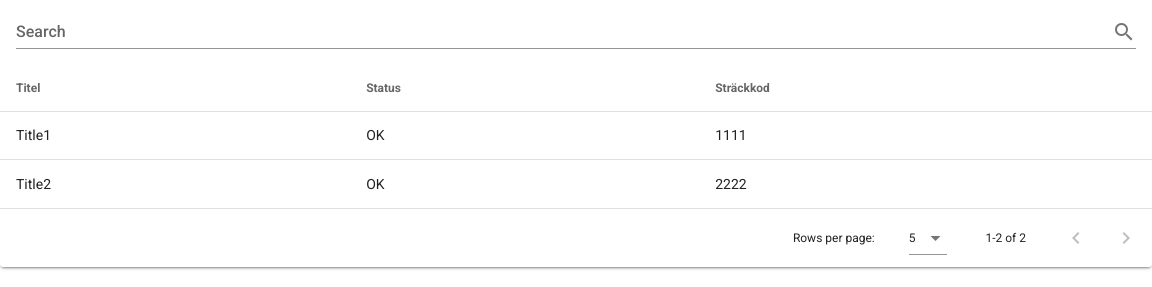
Test case: ListComponent.vue › can search for books
The image size is (1152, 287).
In the field labelled "Search": x=562, y=32 [16, 16, 1108, 48], type "Title2"
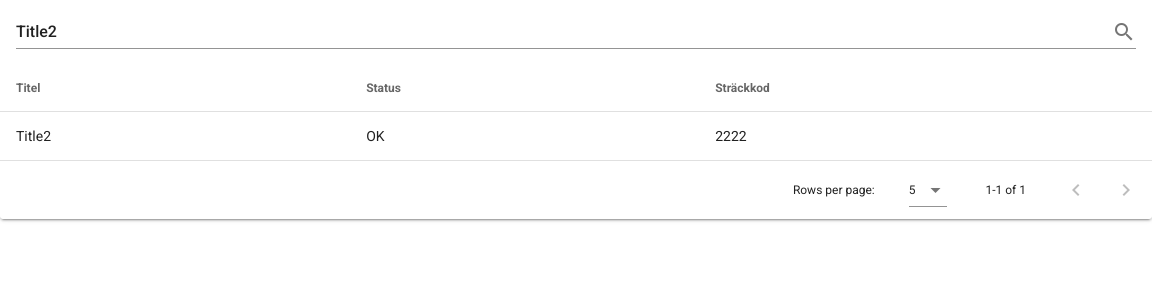
Check: the text "Title1" is gone
